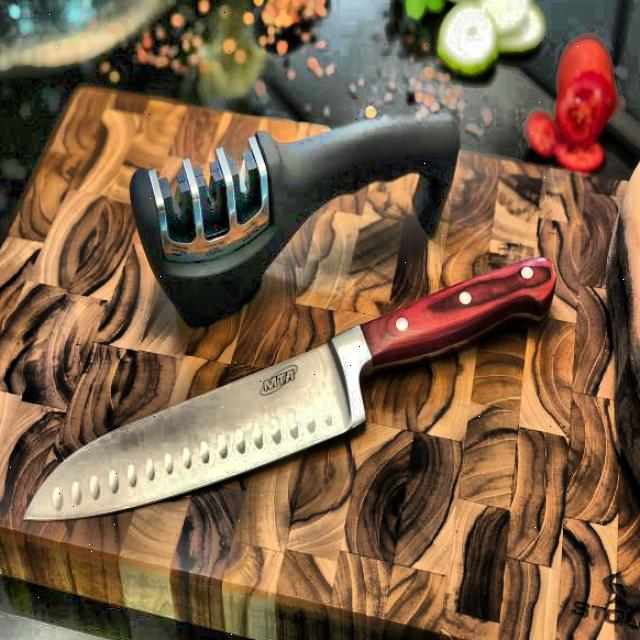knife: (23, 251, 558, 530)
